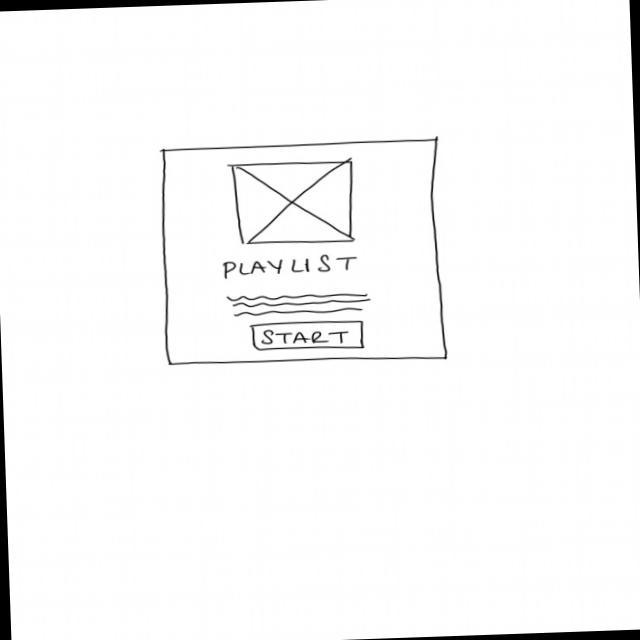button: (251, 320, 367, 354)
container: (158, 138, 449, 370)
image: (231, 159, 358, 247)
label: (222, 253, 361, 282)
textbox: (226, 291, 373, 320)
